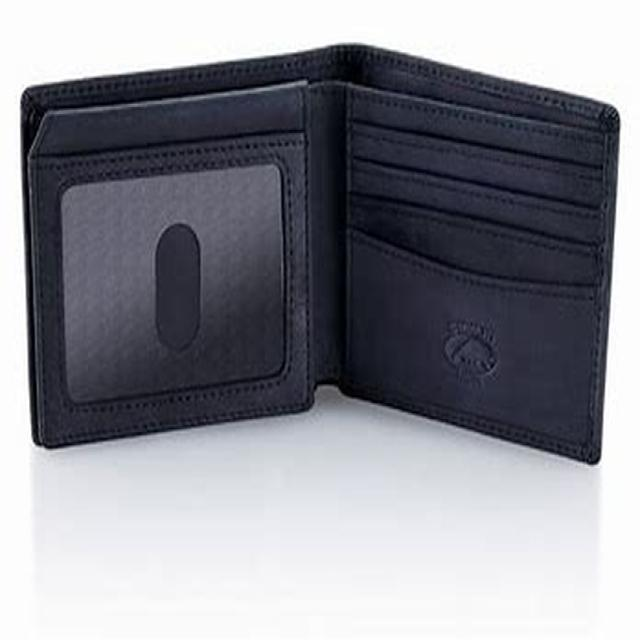wallet: (12, 16, 633, 508)
